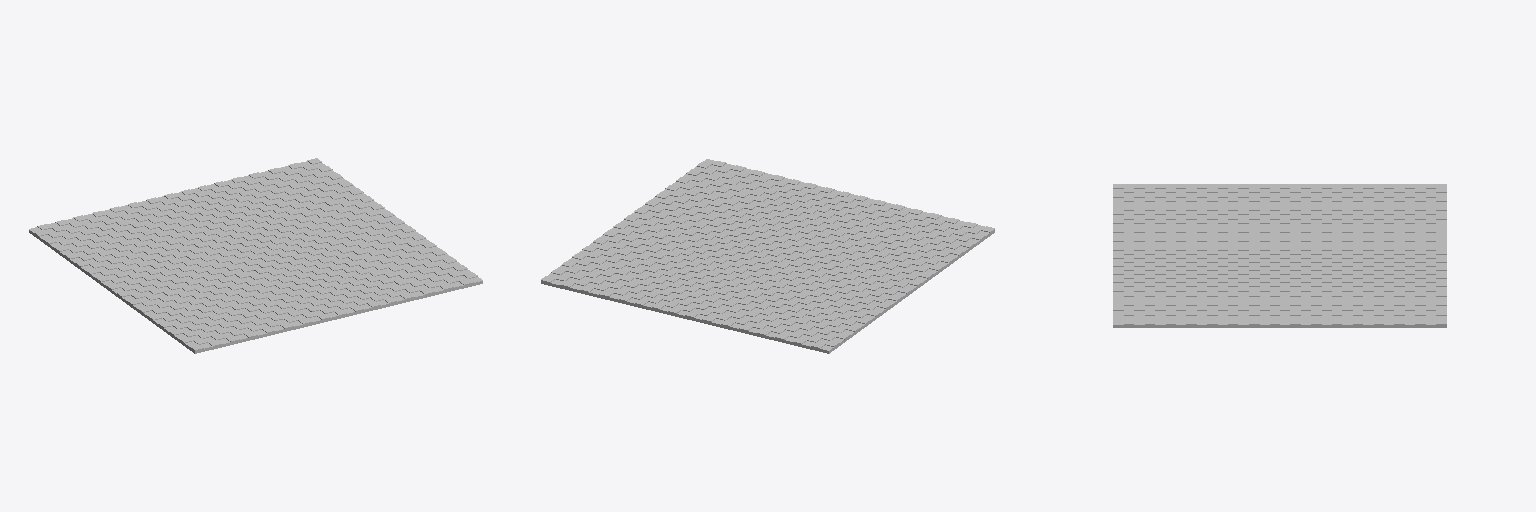
Rendered from Piso.obj.
The picture shows the model from 3 angles: view 1: azimuth 30°, elevation 25°; view 2: azimuth 150°, elevation 25°; view 3: azimuth 270°, elevation 25°; orthographic projection.
Parts seen in each view (by area): view 1: Cube; view 2: Cube; view 3: Cube.
Part boxes in pixels (left/top/right/bottom): Cube: left=29, top=158, right=482, bottom=353; Cube: left=541, top=159, right=994, bottom=353; Cube: left=1113, top=184, right=1446, bottom=327.
Size of the model in its own units: 200 by 2.5 by 200.